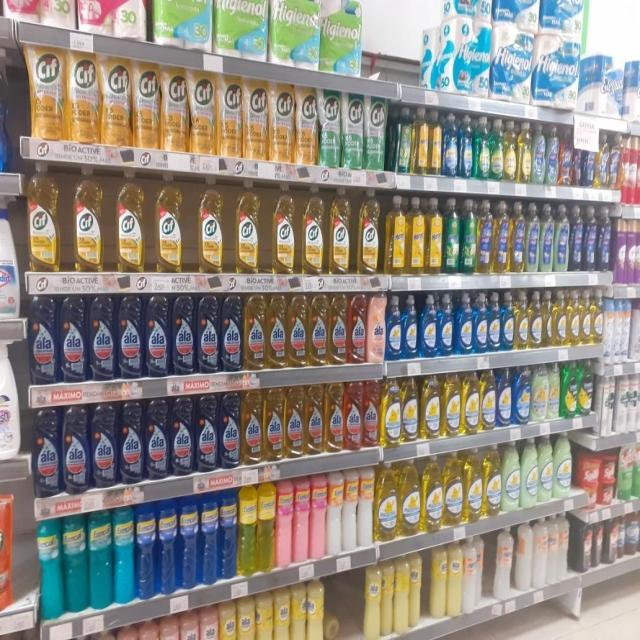ala_conc_amarillo: (244, 292, 265, 371), (263, 386, 284, 462), (242, 388, 262, 465), (266, 292, 286, 369), (287, 292, 307, 368), (308, 292, 328, 367), (285, 385, 304, 458), (305, 383, 324, 455), (328, 292, 346, 365), (325, 382, 343, 452)
ala_conc_azul: (28, 293, 58, 385), (32, 404, 61, 497), (59, 293, 87, 383), (88, 294, 116, 382), (62, 404, 89, 494), (91, 401, 117, 489), (117, 294, 143, 379), (118, 400, 144, 484), (144, 294, 170, 377), (145, 397, 169, 480), (172, 294, 196, 376), (170, 395, 194, 476), (197, 294, 220, 374), (195, 392, 218, 472), (221, 293, 242, 372), (219, 391, 240, 469)
ala_conc_rojo: (348, 292, 366, 365), (344, 381, 362, 451), (363, 378, 380, 449)
ala_crem_amarillo: (364, 560, 381, 640), (394, 555, 409, 634), (448, 539, 462, 617), (307, 579, 324, 640), (410, 551, 422, 629), (291, 583, 306, 640), (274, 587, 290, 640), (256, 592, 273, 640), (237, 596, 255, 640), (220, 599, 236, 640)
ala_crem_blanco: (342, 468, 358, 552), (358, 466, 374, 548), (327, 470, 342, 555)
ala_crem_rosado: (0, 486, 14, 620), (200, 605, 219, 639), (181, 609, 199, 640), (160, 614, 180, 640), (138, 618, 159, 640), (118, 622, 138, 640)
ala_ultra_rosa: (367, 292, 385, 363)
cif_conc_bot_amarilla: (27, 159, 59, 273), (72, 165, 104, 272), (116, 168, 146, 272), (154, 171, 184, 274), (198, 174, 225, 274), (235, 179, 261, 274), (272, 183, 298, 275), (301, 184, 326, 276), (356, 187, 381, 275), (328, 186, 352, 276)
cif_conc_sachet_amarillo: (29, 44, 65, 141), (66, 46, 100, 144), (100, 52, 131, 147), (132, 58, 160, 150), (189, 66, 216, 156), (161, 62, 188, 152), (217, 70, 243, 157), (268, 79, 294, 164), (244, 74, 268, 161), (295, 83, 318, 165)
cif_conc_sachet_verde: (318, 88, 341, 168), (365, 94, 387, 171), (342, 91, 363, 169)
esencial: (35, 515, 62, 620), (62, 511, 88, 614), (88, 509, 112, 610), (113, 505, 135, 604), (135, 501, 157, 600), (178, 494, 200, 590), (157, 497, 178, 595), (200, 491, 219, 585), (238, 483, 257, 576), (258, 480, 276, 573), (219, 488, 237, 580), (276, 479, 293, 568), (294, 476, 310, 564)
heroe: (463, 536, 479, 613), (558, 512, 570, 583), (548, 513, 560, 584)
magistral_con_amarillo: (375, 461, 397, 542), (399, 458, 420, 537), (422, 454, 442, 532), (443, 451, 463, 526), (381, 378, 401, 446), (464, 448, 482, 523), (484, 444, 502, 517), (420, 374, 440, 439), (442, 372, 461, 437), (401, 376, 419, 443), (461, 371, 479, 434), (480, 368, 496, 432), (515, 289, 528, 350), (529, 290, 542, 348), (596, 132, 609, 189), (553, 290, 566, 346), (567, 290, 580, 346), (592, 290, 604, 344), (580, 290, 591, 346), (543, 290, 552, 348)
magistral_con_azul: (419, 293, 437, 358), (455, 292, 473, 354), (513, 365, 531, 425), (402, 293, 418, 359), (442, 112, 458, 177), (438, 292, 454, 356), (386, 294, 401, 361), (496, 367, 512, 428), (473, 291, 487, 354), (501, 290, 514, 352), (488, 291, 501, 352)
magistral_con_crema: (502, 441, 520, 512), (521, 436, 538, 507), (554, 433, 572, 499), (538, 434, 554, 502), (531, 364, 547, 422), (548, 361, 560, 420)
zorro: (493, 200, 509, 273), (477, 199, 492, 273), (554, 203, 570, 272), (539, 203, 554, 272), (510, 200, 524, 272), (525, 202, 539, 272)
